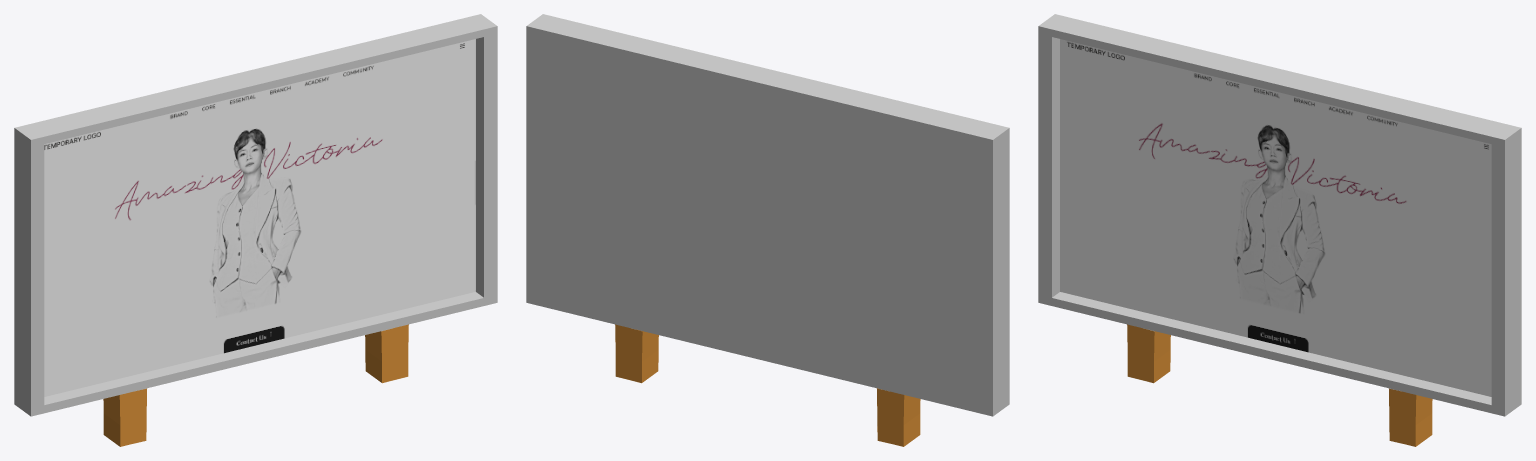
The model's file is frame-tommy3.glb.
The picture shows the model from 3 angles, left to right: view 1: azimuth 30°, elevation 25°; view 2: azimuth 150°, elevation 25°; view 3: azimuth 330°, elevation 25°; orthographic projection.
Visible parts, largest first — view 1: 3, Cube; view 2: Cube; view 3: 3, Cube.
Part boxes in pixels (x1=…): 3: x1=44, y1=39, x2=475, y2=396; Cube: x1=14, y1=14, x2=497, y2=446; Cube: x1=526, y1=14, x2=1009, y2=446; 3: x1=1060, y1=39, x2=1491, y2=396; Cube: x1=1038, y1=14, x2=1521, y2=446.
Size of the model in its own units: 11.03 by 7.43 by 0.6791.
Materials: 3 (1 with a texture image).
